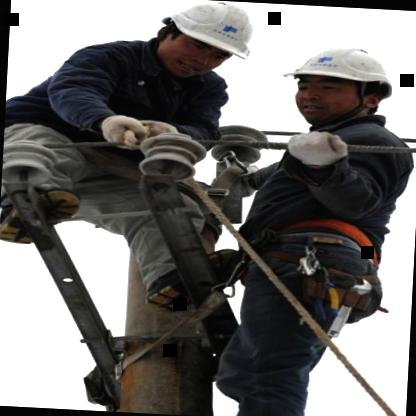helmet: (272, 24, 407, 131), (134, 0, 268, 83)
